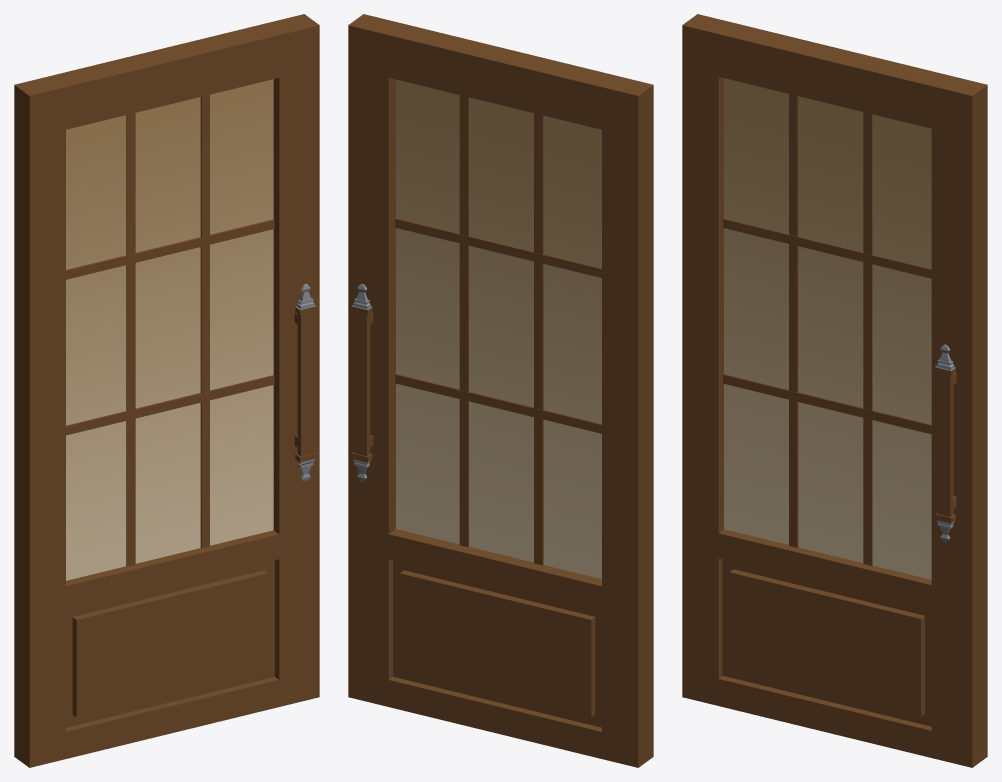
The model's file is SM_Buildings_Library_01_Door_R.fbx.
3 renders of one model, left to right at view 1: azimuth 30°, elevation 25°; view 2: azimuth 150°, elevation 25°; view 3: azimuth 330°, elevation 25°, orthographic.
Visible parts, largest first — view 1: SM_Buildings_Library_01_Door_R; view 2: SM_Buildings_Library_01_Door_R; view 3: SM_Buildings_Library_01_Door_R.
Part boxes in pixels (x1,y1,x2,y2): SM_Buildings_Library_01_Door_R: (14,14,319,767); SM_Buildings_Library_01_Door_R: (348,14,653,767); SM_Buildings_Library_01_Door_R: (682,14,987,767).
Size of the model in its own units: 1.13 by 2.5 by 0.2221.
